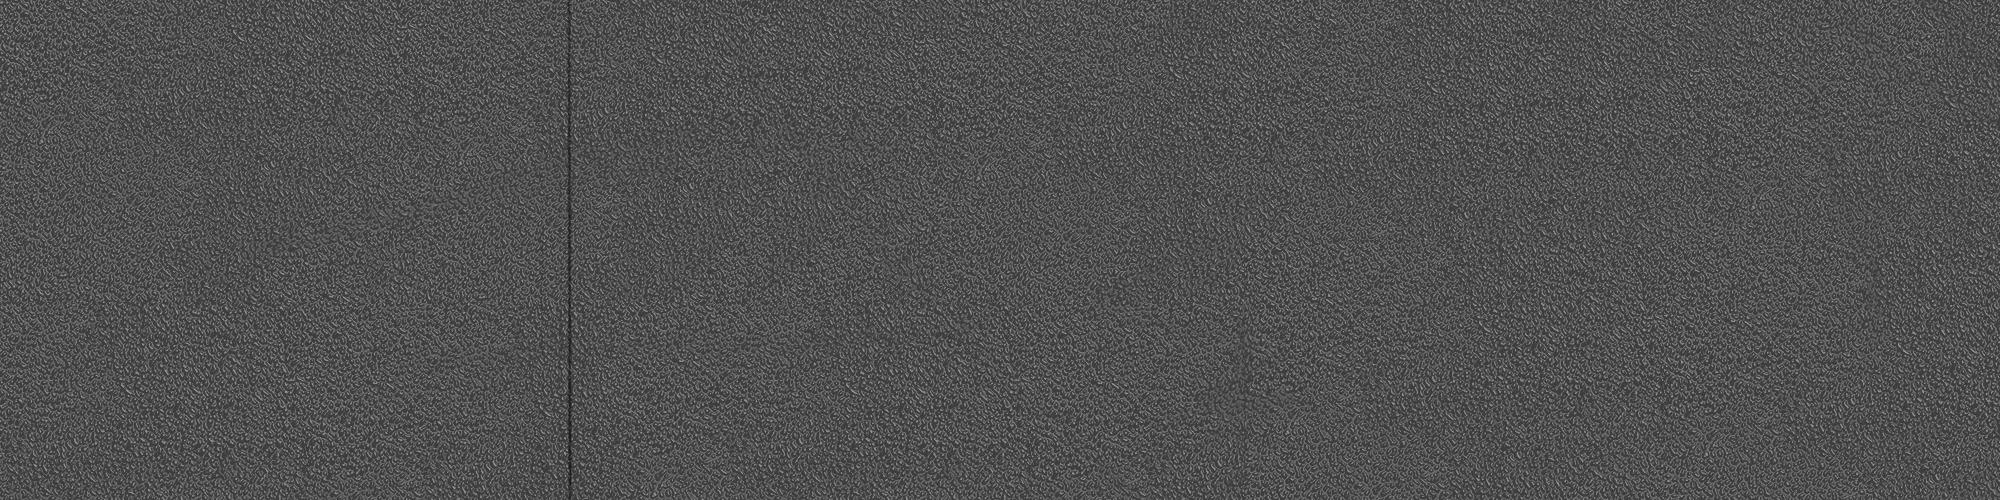DieDrag: (554, 3, 587, 500)
